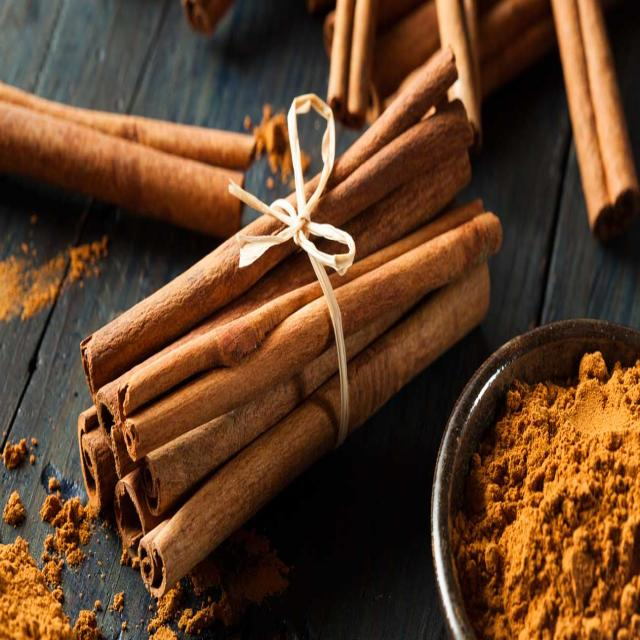Cinnamon: (101, 251, 340, 596), (312, 105, 501, 428), (82, 236, 294, 393), (0, 101, 244, 236), (0, 82, 256, 169), (552, 0, 640, 240), (312, 107, 472, 224), (436, 0, 482, 150)
